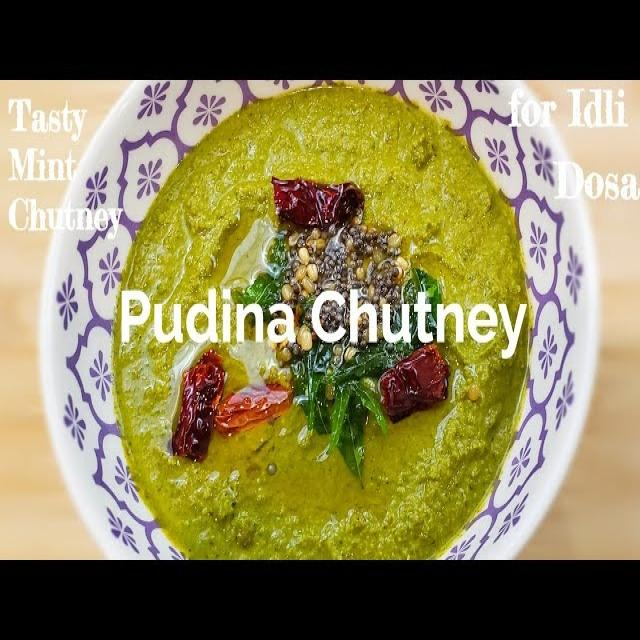puthina chutney: (102, 111, 543, 553)
